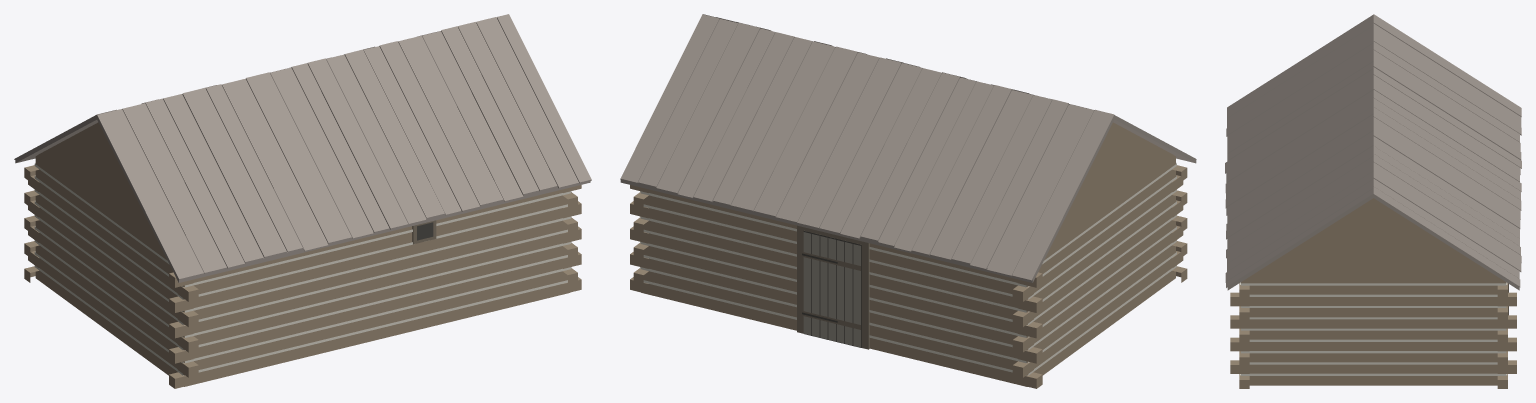
Rendered from wolf_point_tavern_stable__stable_1831.glb.
The picture shows the model from 3 angles, left to right: view 1: azimuth 30°, elevation 25°; view 2: azimuth 150°, elevation 25°; view 3: azimuth 270°, elevation 25°; orthographic projection. The views are drawn at different scales.
Visible parts, largest first — view 1: wolf_point_tavern_stable__stable_1831; view 2: wolf_point_tavern_stable__stable_1831; view 3: wolf_point_tavern_stable__stable_1831.
Boxes of the visible parts, box(x1,y1,x2,y2) form: wolf_point_tavern_stable__stable_1831: box(14, 14, 591, 388); wolf_point_tavern_stable__stable_1831: box(620, 14, 1196, 388); wolf_point_tavern_stable__stable_1831: box(1225, 14, 1521, 388).
Bounding box in the file's own units: 9.6 × 4.94 × 6.71.
